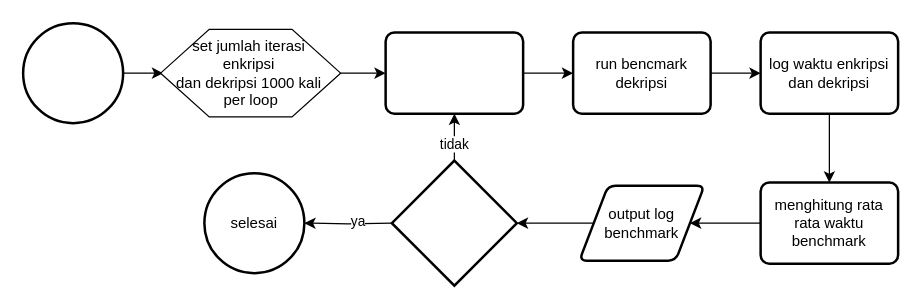
Image size: 920x308. Some labels were removed from this diagram. Each missing label, with the box of its shape:
loop 10 kali?: (390, 159, 518, 286)
mulai: (21, 21, 124, 124)
run benchmark enkripsi: (384, 31, 524, 114)
